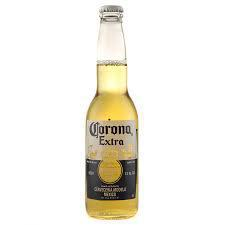beer: (84, 5, 139, 218)
